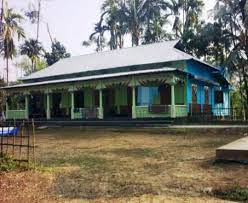Tin-shade House: (19, 44, 231, 127)
